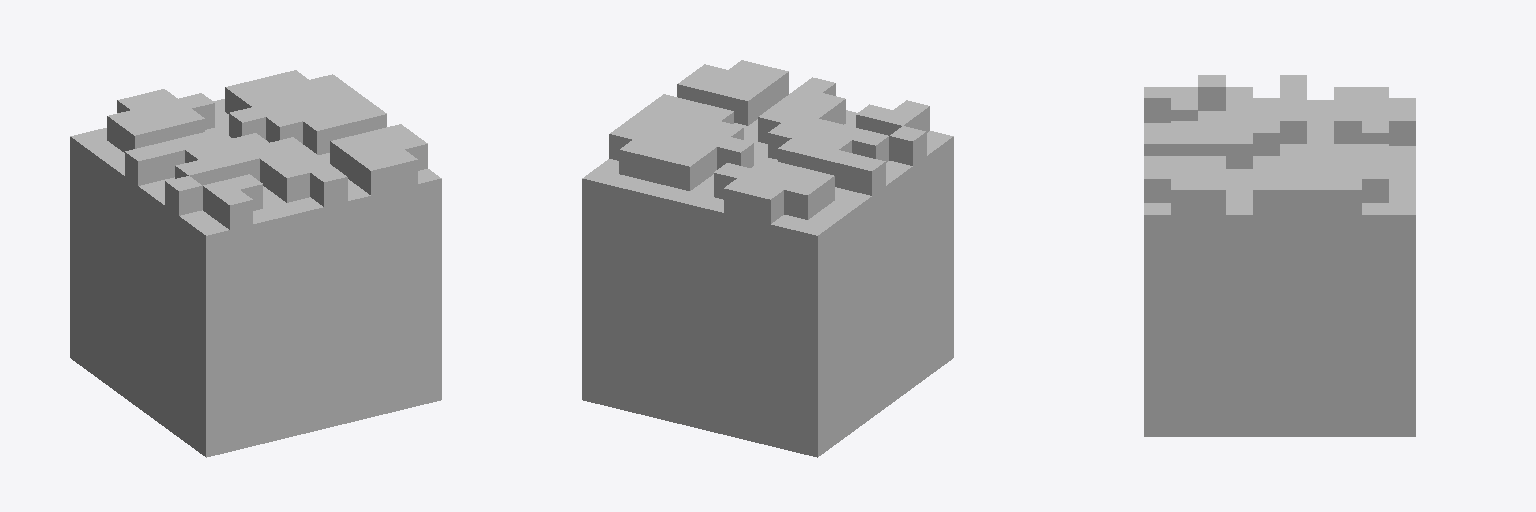
File: FloorTile.obj
The picture shows the model from 3 angles: view 1: azimuth 30°, elevation 25°; view 2: azimuth 150°, elevation 25°; view 3: azimuth 270°, elevation 25°; orthographic projection.
Visible parts, largest first — view 1: object 1; view 2: object 1; view 3: object 1.
Boxes of the visible parts, x1,y1,x2,y2 form: object 1: [70, 70, 441, 457]; object 1: [582, 60, 953, 457]; object 1: [1144, 75, 1415, 436].
Size of the model in its own units: 1 by 1 by 1.